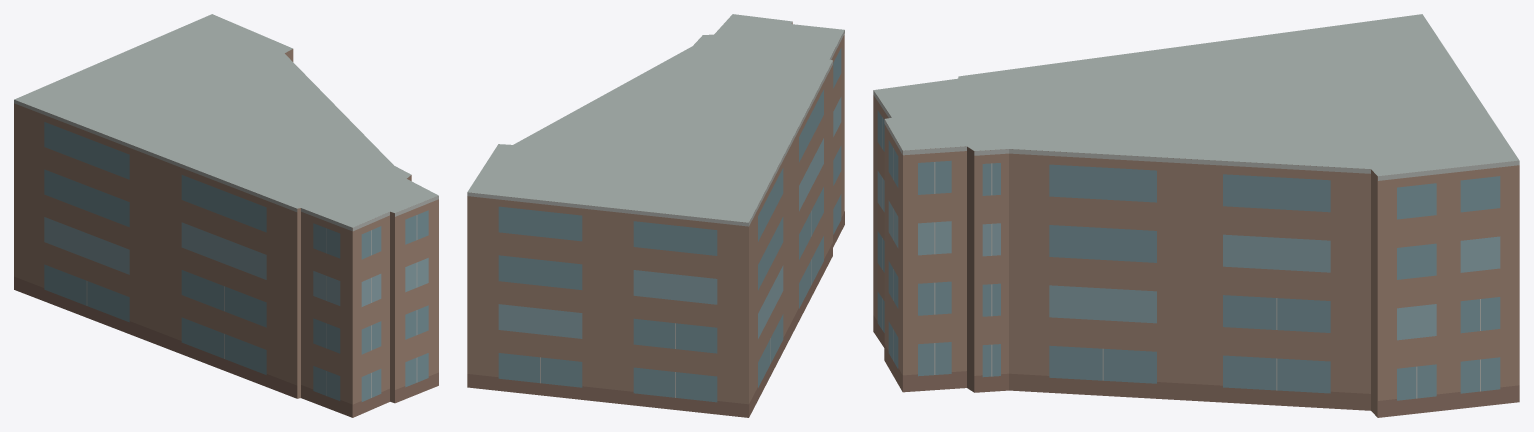
Rendered from survey-upis-32806175.glb.
The picture shows the model from 3 angles, left to right: view 1: azimuth 30°, elevation 25°; view 2: azimuth 150°, elevation 25°; view 3: azimuth 270°, elevation 25°; orthographic projection. The views are drawn at different scales.
Visible parts, largest first — view 1: survey-upis-32806175.tmp; view 2: survey-upis-32806175.tmp; view 3: survey-upis-32806175.tmp.
Boxes of the visible parts, x1,y1,x2,y2 form: survey-upis-32806175.tmp: (14,14,438,417); survey-upis-32806175.tmp: (467,14,844,417); survey-upis-32806175.tmp: (873,14,1519,417).
Bounding box in the file's own units: 18.16 × 12.6 × 30.55.
